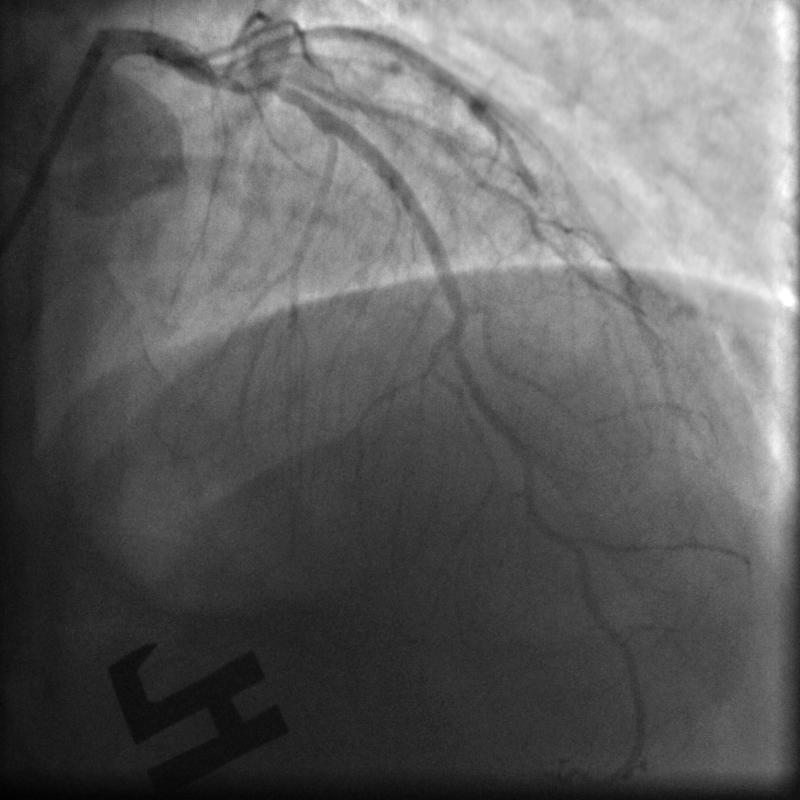Stenosis: (211, 61, 284, 97)
